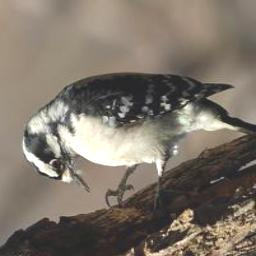Woodpecker: (23, 73, 256, 209)
